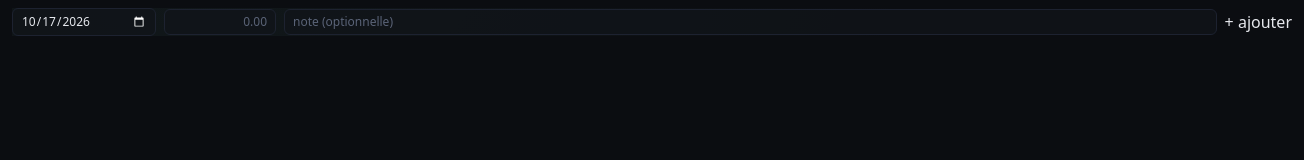
BalanceCheckpointsDrawer › maps a 400 with an expectedAmount issue to an actionable French message
Type "2025-06-01" into the date field named "date du point de contrôle".
click(84, 22); type("2025-06-01")  # box [12,8,156,36]
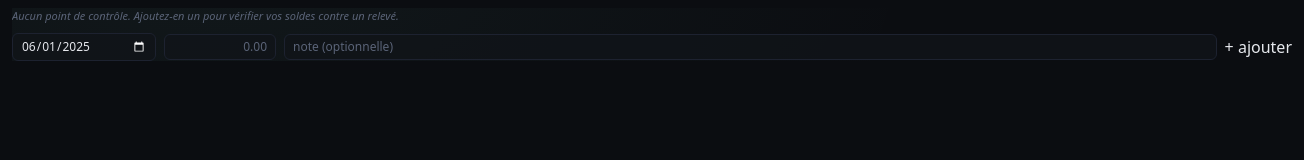
Type "100.00" into the field named "montant attendu".
click(220, 46); type("100.00")  # box [164,34,276,60]
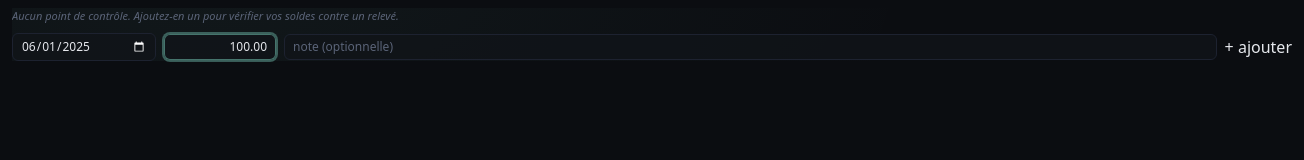
Click the button "+ ajouter".
click(1258, 46)  # box [1225,34,1292,58]
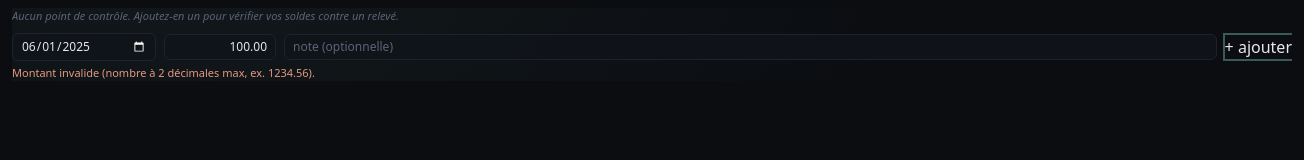
expect the text "Montant invalide (nombre à 2 décimales max, ex. 1234.56)." is shown: met, box [12,64,315,80]
